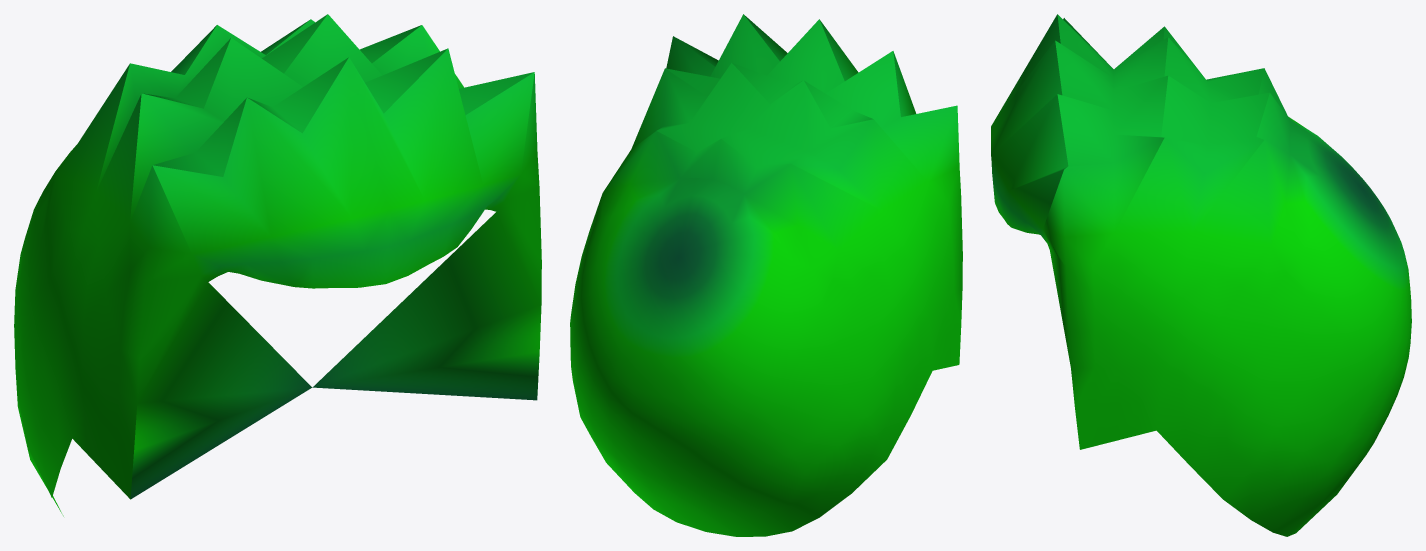
File: Hair1_49.glb
3 views of the same model, side by side, from view 1: azimuth 30°, elevation 25°; view 2: azimuth 150°, elevation 25°; view 3: azimuth 270°, elevation 25° (orthographic). The views are drawn at different scales.
Bounding box in the file's own units: 52.64 × 67.72 × 54.9.
